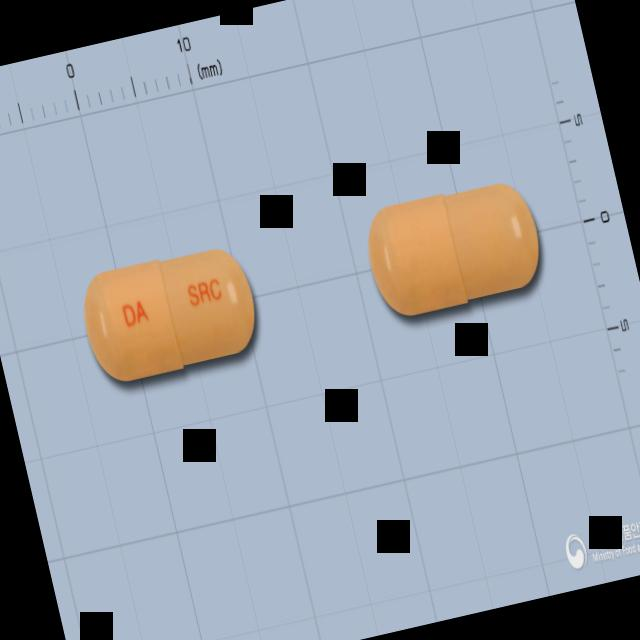Suprax Cap- Dong-A: (71, 238, 266, 390)
